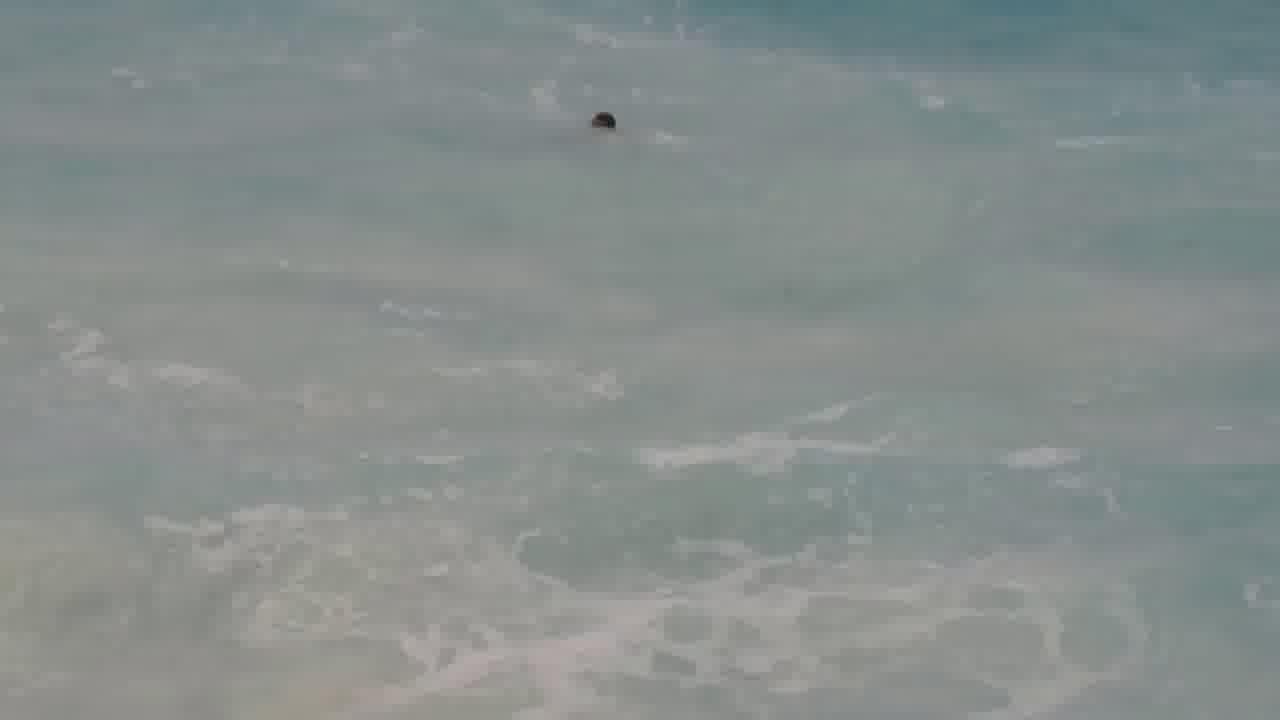human: (580, 99, 638, 139)
